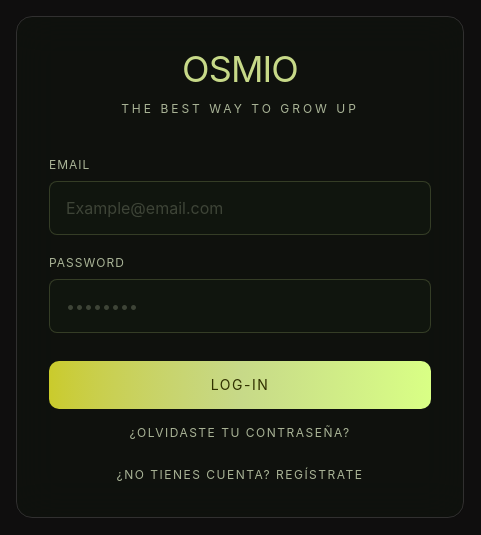
Test: LoginScreen - recuperación de contraseña › pasa a modo "forgot" al pulsar "¿OLVIDASTE TU CONTRASEÑA?"
Click the button "¿OLVIDASTE TU CONTRASEÑA?". click: (240, 433)
box: [49,425,431,441]
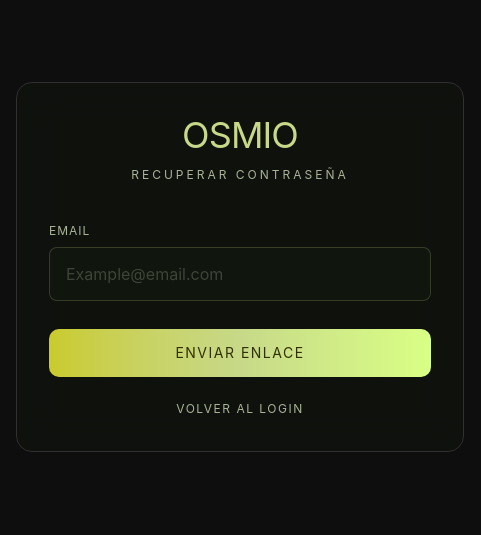
Now the text "RECUPERAR CONTRASEÑA" is shown, box [131,167,349,182]
Now the button "ENVIAR ENLACE" is shown, box [49,329,431,377]
Now the label labelled "Password" is gone
